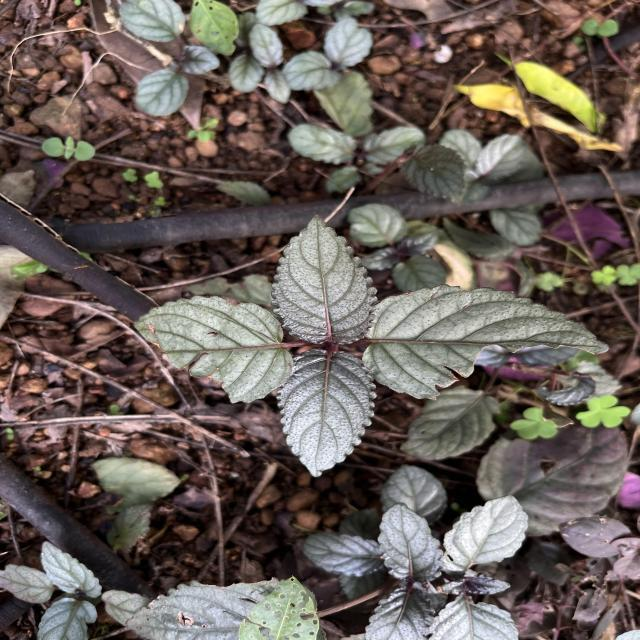Hemigraphis colorata: (360, 281, 612, 405), (268, 210, 380, 348), (272, 344, 380, 480), (440, 490, 532, 574), (375, 500, 447, 590), (37, 538, 105, 602)
